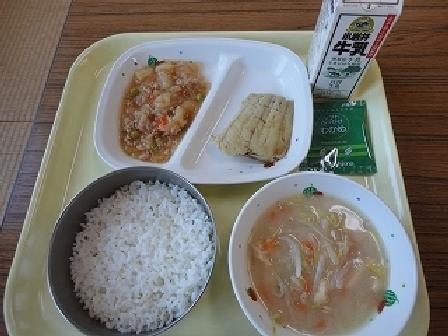Fish: (212, 79, 297, 167)
Milk: (297, 3, 407, 101)
Rice: (55, 166, 228, 335)
Soups: (232, 180, 417, 330)
vegetable based cooked food: (97, 57, 203, 157)
